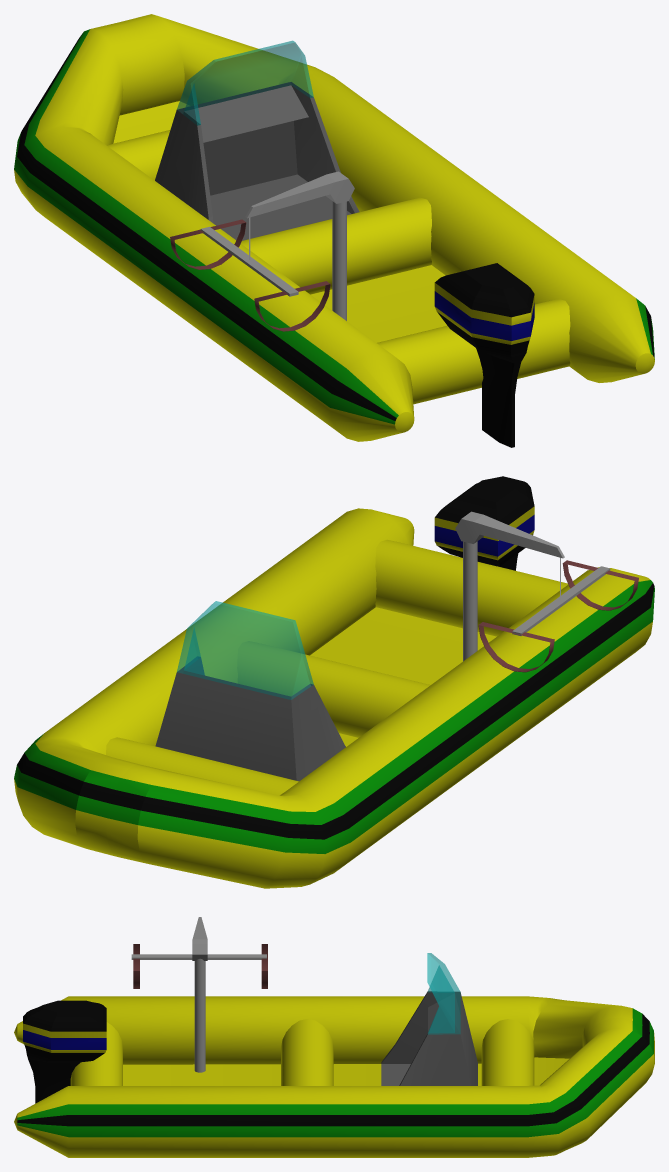
Rendered from RescueDinghy.fbx.
The picture shows the model from 3 angles, top to bottom: view 1: azimuth 30°, elevation 25°; view 2: azimuth 150°, elevation 25°; view 3: azimuth 270°, elevation 25°; orthographic projection. The views are drawn at different scales.
Parts seen in each view (by area): view 1: polySurface7; view 2: polySurface7; view 3: polySurface7.
Boxes of the visible parts, x1=… form: polySurface7: x1=14, y1=14, x2=654, y2=447; polySurface7: x1=14, y1=476, x2=654, y2=888; polySurface7: x1=14, y1=917, x2=654, y2=1157.
Size of the model in its own units: 5.88 by 3.32 by 12.17.
